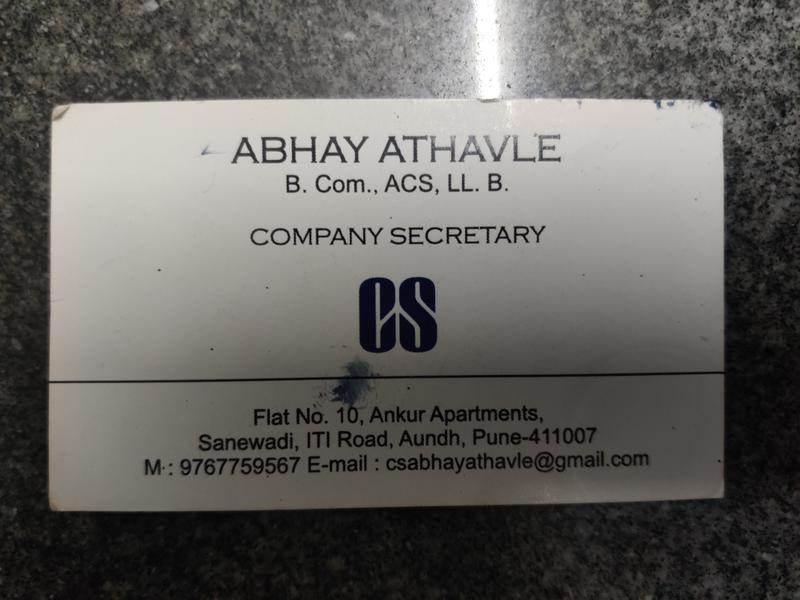card: (43, 97, 732, 514)
